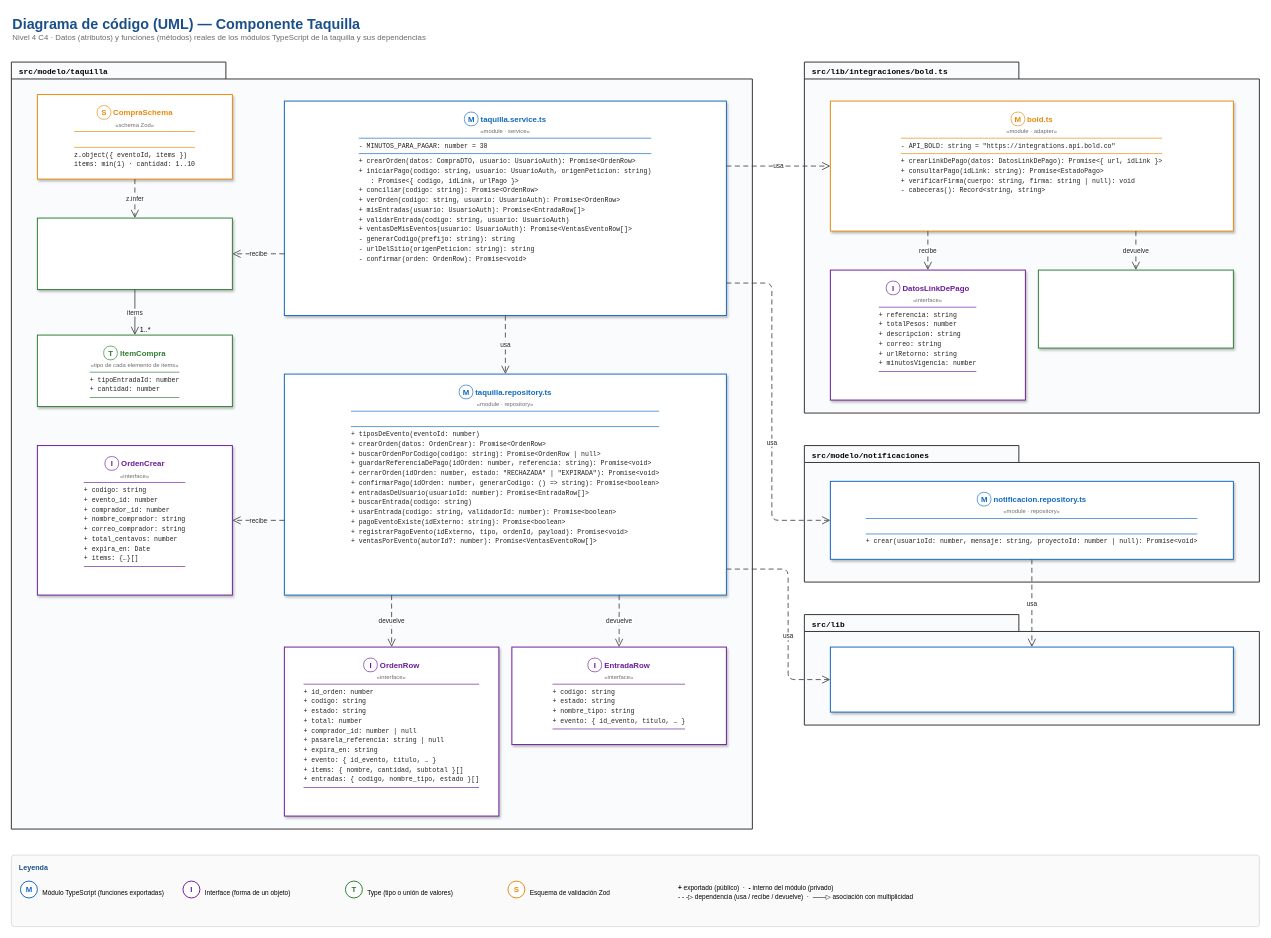
The diagram is 1271 pixels wide and 938 high, and some of its shapes have lost their labels. The centre of each missing label's shape, as x and y in pixels:
M db.ts «module · singleton» + prisma: PrismaClient: point 1032,680
T CompraDTO «type» + eventoId: number + items: ItemCompra[]: point 135,254
T EstadoPago «type» "PAGADA" | "RECHAZADA" | "EXPIRADA" | "PENDIENTE": point 1136,310
